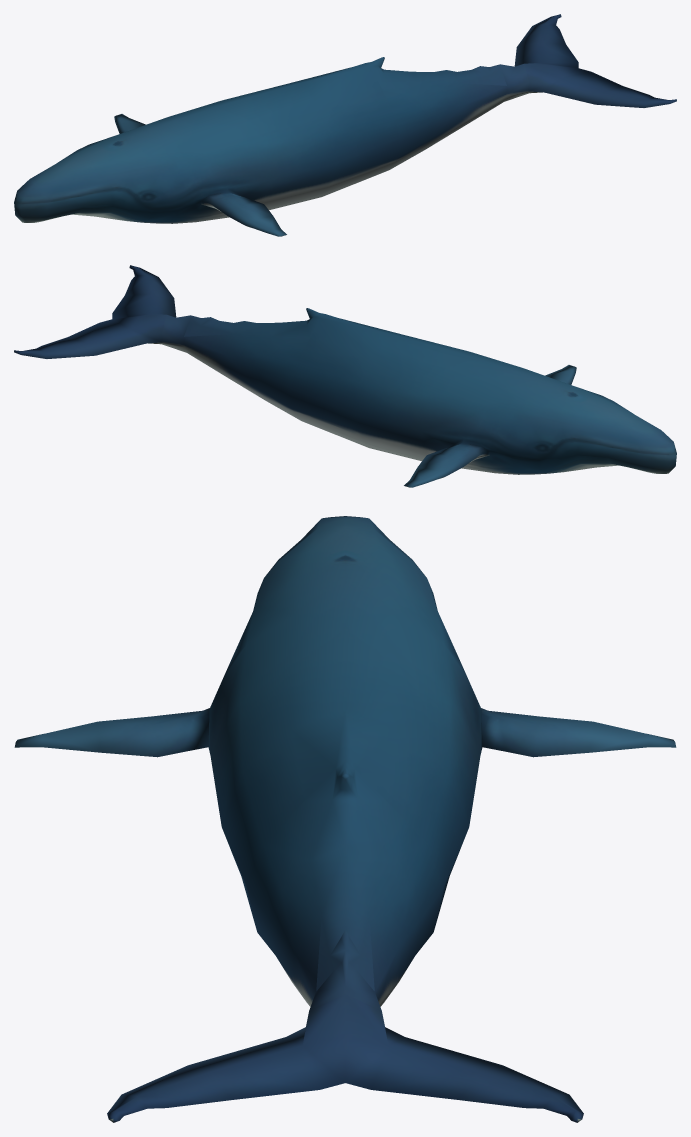
The model's file is f30_lanjing.FBX.
3 views of the same model, one above another, from view 1: azimuth 30°, elevation 25°; view 2: azimuth 150°, elevation 25°; view 3: azimuth 270°, elevation 25° (orthographic). The views are drawn at different scales.
Visible parts, largest first — view 1: f30_lanjing; view 2: f30_lanjing; view 3: f30_lanjing.
Boxes of the visible parts, bbox=[...] form: f30_lanjing: bbox=[14, 14, 676, 236]; f30_lanjing: bbox=[14, 265, 676, 487]; f30_lanjing: bbox=[14, 516, 676, 1122].
Size of the model in its own units: 1201 by 227 by 570.
Materials: 1 (1 with a texture image).
